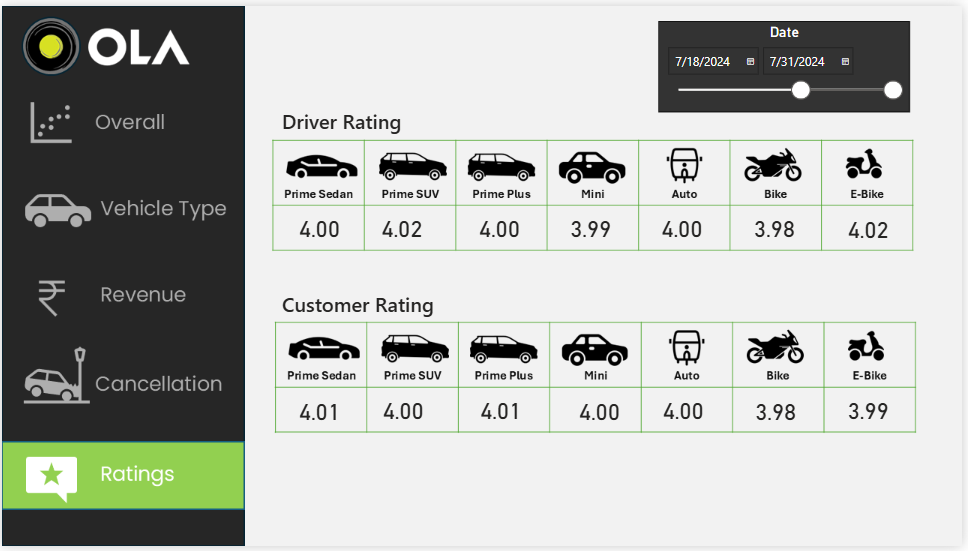

The dashboard page shown, as its layout file describes it:
{"tool":"powerbi","page":{"name":"Ratings","canvas":[1280,720],"ordinal":4},"visuals":[{"type":"actionButton","box":[0,220.6,323.5,92.6],"z":0},{"type":"actionButton","box":[0,341.2,323.5,92.6],"z":1000},{"type":"actionButton","box":[0,451.5,323.5,92.6],"z":2000},{"type":"actionButton","box":[0,108.8,323.5,92.6],"z":3000},{"type":"card","fields":{"Values":["Avg(July.Driver_Ratings)"]},"box":[368.2,267.3,110.3,57.5],"z":4000},{"type":"card","fields":{"Values":["Avg(July.Driver_Ratings)"]},"box":[478.6,267.3,110.3,57.5],"z":5000},{"type":"card","fields":{"Values":["Avg(July.Driver_Ratings)"]},"box":[609.1,267.3,110.3,57.5],"z":6000},{"type":"card","fields":{"Values":["Avg(July.Driver_Ratings)"]},"box":[730.3,267.3,110.3,57.5],"z":7000},{"type":"card","fields":{"Values":["Avg(July.Driver_Ratings)"]},"box":[851.5,267.3,110.3,57.5],"z":8000},{"type":"card","fields":{"Values":["Avg(July.Driver_Ratings)"]},"box":[975.8,267.3,110.3,57.5],"z":9000},{"type":"card","fields":{"Values":["Avg(July.Driver_Ratings)"]},"box":[1100.1,268.8,110.3,57.5],"z":10000},{"type":"card","fields":{"Values":["Avg(July.Customer_Rating)"]},"box":[368.2,517.4,110.3,46.6],"z":11000},{"type":"card","fields":{"Values":["Avg(July.Customer_Rating)"]},"box":[610.6,514.3,110.3,46.6],"z":12000},{"type":"card","fields":{"Values":["Avg(July.Customer_Rating)"]},"box":[741.2,517.4,110.3,46.6],"z":13000},{"type":"card","fields":{"Values":["Avg(July.Customer_Rating)"]},"box":[853,514.3,110.3,46.6],"z":14000},{"type":"card","fields":{"Values":["Avg(July.Customer_Rating)"]},"box":[977.3,517.4,110.3,46.6],"z":15000},{"type":"card","fields":{"Values":["Avg(July.Customer_Rating)"]},"box":[1100.1,514.3,110.3,46.6],"z":16000},{"type":"card","fields":{"Values":["Avg(July.Customer_Rating)"]},"box":[480.1,514.3,110.3,46.6],"z":17000},{"type":"textbox","box":[368.2,130.5,222.2,46.6],"z":18000},{"type":"textbox","box":[368.3,375,240,51.7],"z":19000},{"type":"slicer","title":"Date","fields":{"Values":["July.Date"]},"box":[875,20,335,121.7],"z":20000}]}

Visuals, with their boxes in screenshot pixels (x1, y1, x2, y2), scaled from the page's 1280x720 canvas onto the 968x551 screenshot:
actionButton: locate(0, 169, 245, 240)
actionButton: locate(0, 261, 245, 332)
actionButton: locate(0, 346, 245, 416)
actionButton: locate(0, 83, 245, 154)
card - Avg(July.Driver_Ratings): locate(278, 205, 362, 249)
card - Avg(July.Driver_Ratings): locate(362, 205, 445, 249)
card - Avg(July.Driver_Ratings): locate(461, 205, 544, 249)
card - Avg(July.Driver_Ratings): locate(552, 205, 636, 249)
card - Avg(July.Driver_Ratings): locate(644, 205, 727, 249)
card - Avg(July.Driver_Ratings): locate(738, 205, 821, 249)
card - Avg(July.Driver_Ratings): locate(832, 206, 915, 250)
card - Avg(July.Customer_Rating): locate(278, 396, 362, 432)
card - Avg(July.Customer_Rating): locate(462, 394, 545, 429)
card - Avg(July.Customer_Rating): locate(561, 396, 644, 432)
card - Avg(July.Customer_Rating): locate(645, 394, 728, 429)
card - Avg(July.Customer_Rating): locate(739, 396, 822, 432)
card - Avg(July.Customer_Rating): locate(832, 394, 915, 429)
card - Avg(July.Customer_Rating): locate(363, 394, 446, 429)
textbox: locate(278, 100, 446, 136)
textbox: locate(279, 287, 460, 327)
"Date" slicer: locate(662, 15, 915, 108)
